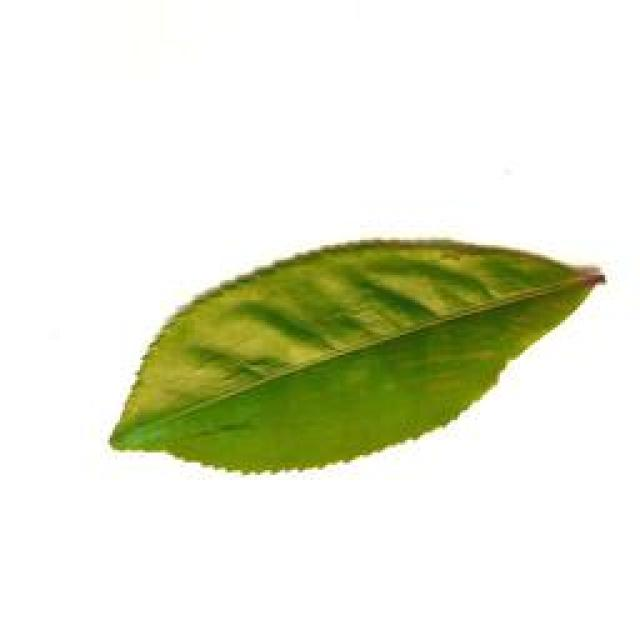Healthy: (110, 224, 615, 487)
